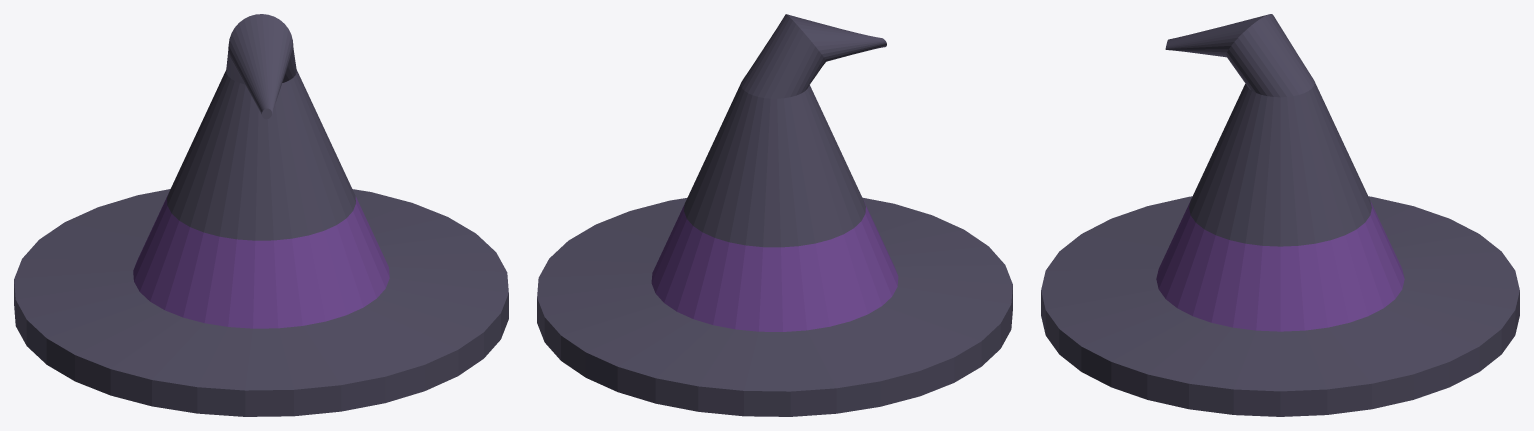
The model's file is witchhat.fbx.
3 renders of one model, left to right at view 1: azimuth 30°, elevation 25°; view 2: azimuth 150°, elevation 25°; view 3: azimuth 270°, elevation 25°, orthographic. The views are drawn at different scales.
Visible parts, largest first — view 1: Cylinder.003; view 2: Cylinder.003; view 3: Cylinder.003.
Part boxes in pixels (bbox=[...]): Cylinder.003: bbox=[14, 14, 508, 416]; Cylinder.003: bbox=[537, 14, 1012, 416]; Cylinder.003: bbox=[1041, 14, 1519, 416].
Size of the model in its own units: 49.2 by 33.55 by 49.2.
